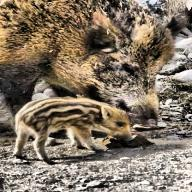boar: (1, 2, 191, 149), (16, 79, 142, 162)
